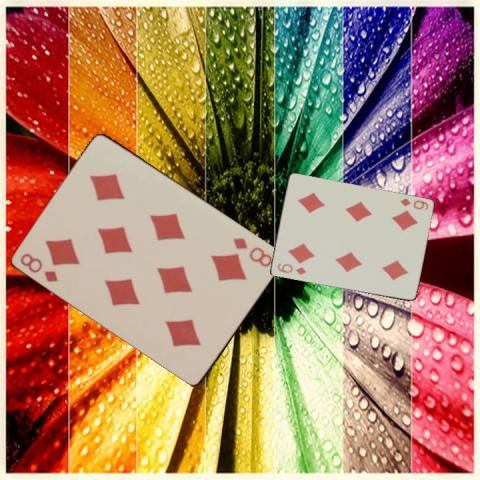6d: (274, 260, 307, 277), (398, 196, 430, 212)
8d: (230, 234, 275, 268), (17, 250, 61, 283)
